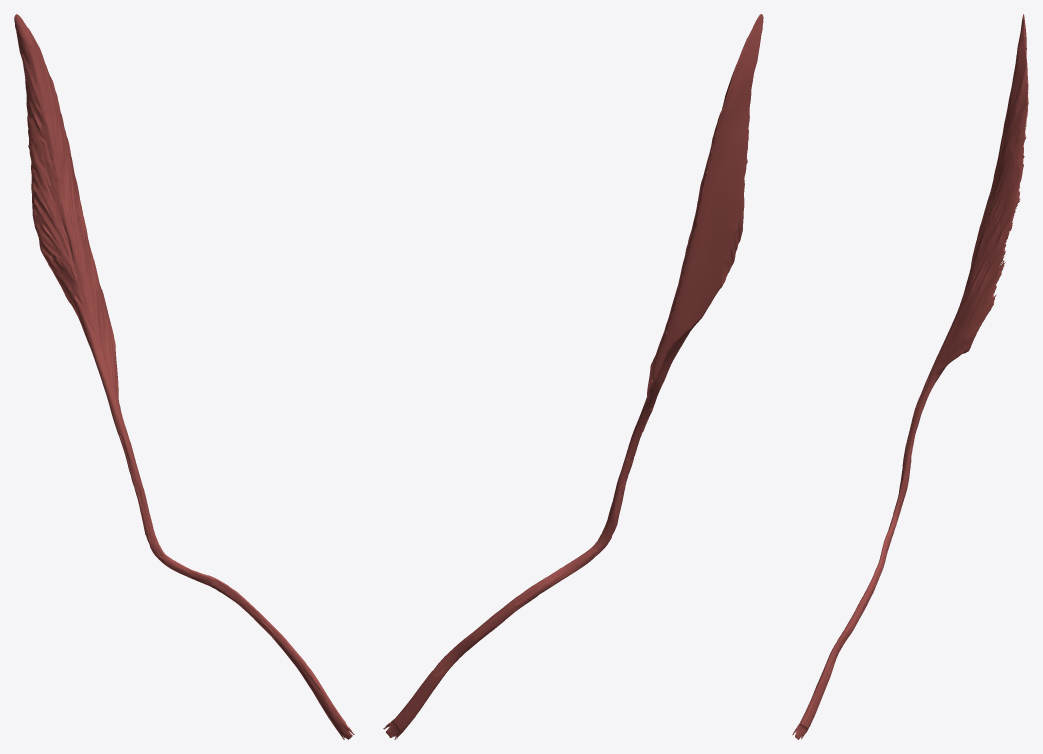
Rendered from FMA38484.glb.
3 views of the same model, side by side, from view 1: azimuth 30°, elevation 25°; view 2: azimuth 210°, elevation 25°; view 3: azimuth 270°, elevation 25° (orthographic). The views are drawn at different scales.
Visible parts, largest first — view 1: FMA38484; view 2: FMA38484; view 3: FMA38484.
Part boxes in pixels (<box>): FMA38484: <box>14,14,354,739</box>; FMA38484: <box>383,14,763,739</box>; FMA38484: <box>792,14,1028,739</box>.
Bounding box in the file's own units: 0.0754 × 0.2307 × 0.0781.
